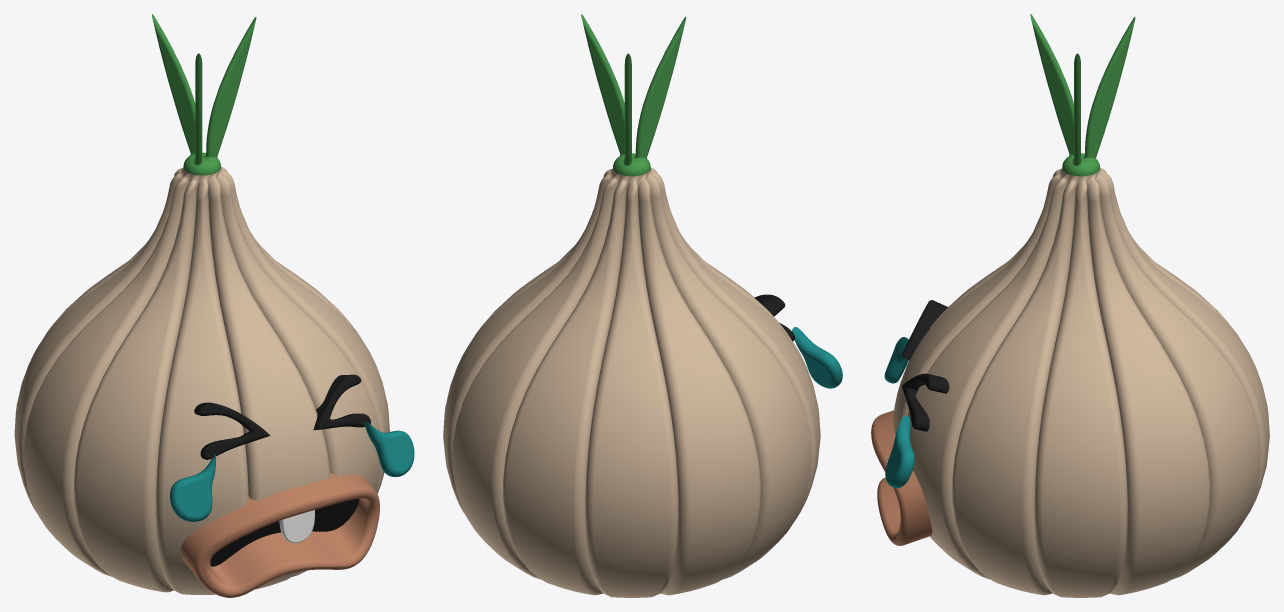
Rendered from onion enemy.fbx.
The picture shows the model from 3 angles, left to right: view 1: azimuth 30°, elevation 25°; view 2: azimuth 150°, elevation 25°; view 3: azimuth 270°, elevation 25°; orthographic projection.
Visible parts, largest first — view 1: Body35, Body30, Body29, Body20, Body37, Body22, Body31, Body36, Body32; view 2: Body35, Body29, Body20; view 3: Body35, Body29, Body30, Body22, Body36, Body31, Body20.
Part boxes in pixels (<box>): Body35: <box>14,167,389,594</box>; Body30: <box>181,472,379,597</box>; Body29: <box>152,14,256,175</box>; Body20: <box>169,454,215,521</box>; Body37: <box>210,498,359,566</box>; Body22: <box>364,421,414,476</box>; Body31: <box>194,402,270,459</box>; Body36: <box>313,374,370,430</box>; Body32: <box>279,510,314,543</box>; Body35: <box>443,167,820,597</box>; Body29: <box>581,14,686,176</box>; Body20: <box>792,327,842,388</box>; Body35: <box>893,167,1269,597</box>; Body29: <box>1030,14,1135,176</box>; Body30: <box>871,410,932,545</box>; Body22: <box>885,415,914,487</box>; Body36: <box>902,373,949,431</box>; Body31: <box>902,300,947,360</box>; Body20: <box>884,337,908,383</box>.
Size of the model in its own units: 263 by 415 by 278.
